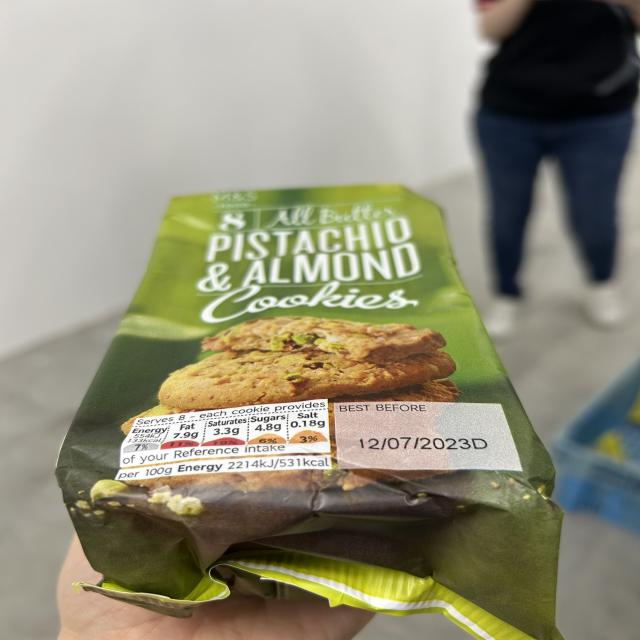object_name: (88, 198, 530, 612)
